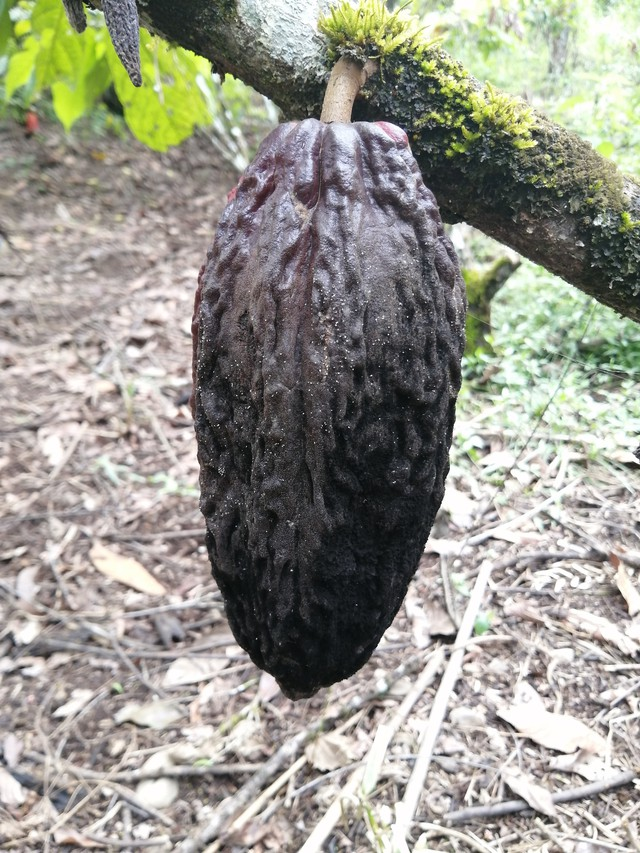phytophthora palmivora: (175, 107, 479, 709)
